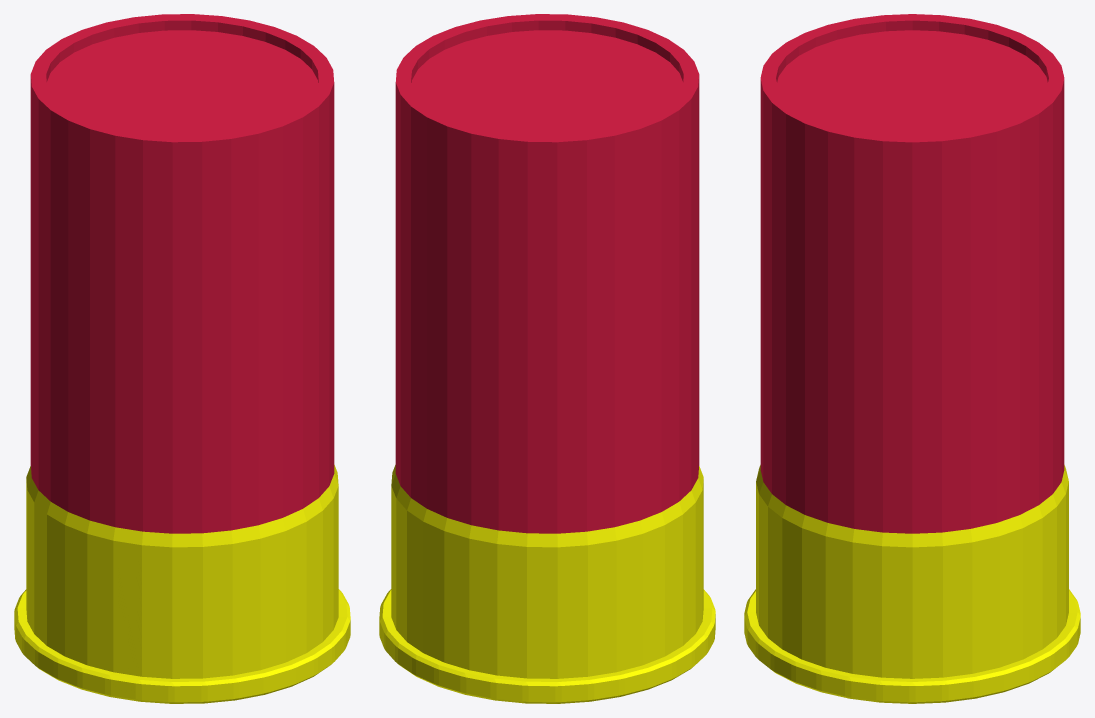
Rendered from shgun.glb.
3 views of the same model, side by side, from view 1: azimuth 30°, elevation 25°; view 2: azimuth 150°, elevation 25°; view 3: azimuth 270°, elevation 25° (orthographic).
Visible parts, largest first — view 1: red_holder; view 2: red_holder; view 3: red_holder.
Boxes of the visible parts, bbox=[...] form: red_holder: bbox=[14, 14, 350, 703]; red_holder: bbox=[379, 14, 715, 703]; red_holder: bbox=[744, 14, 1080, 703].
Size of the model in its own units: 0.0674 by 0.1228 by 0.0674.
